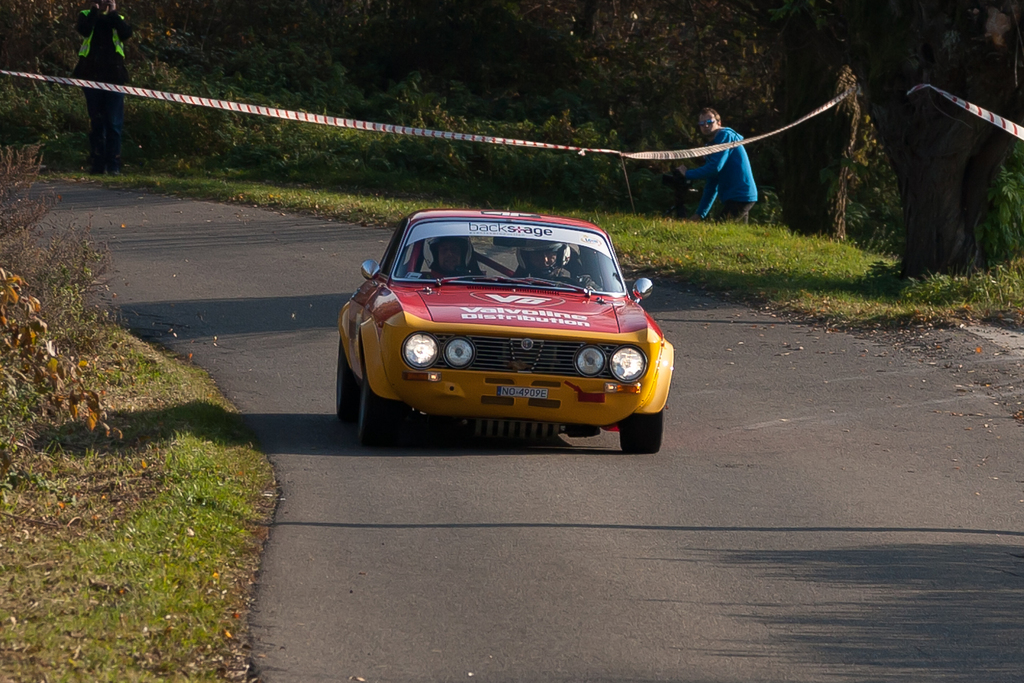Car: (328, 203, 674, 452)
